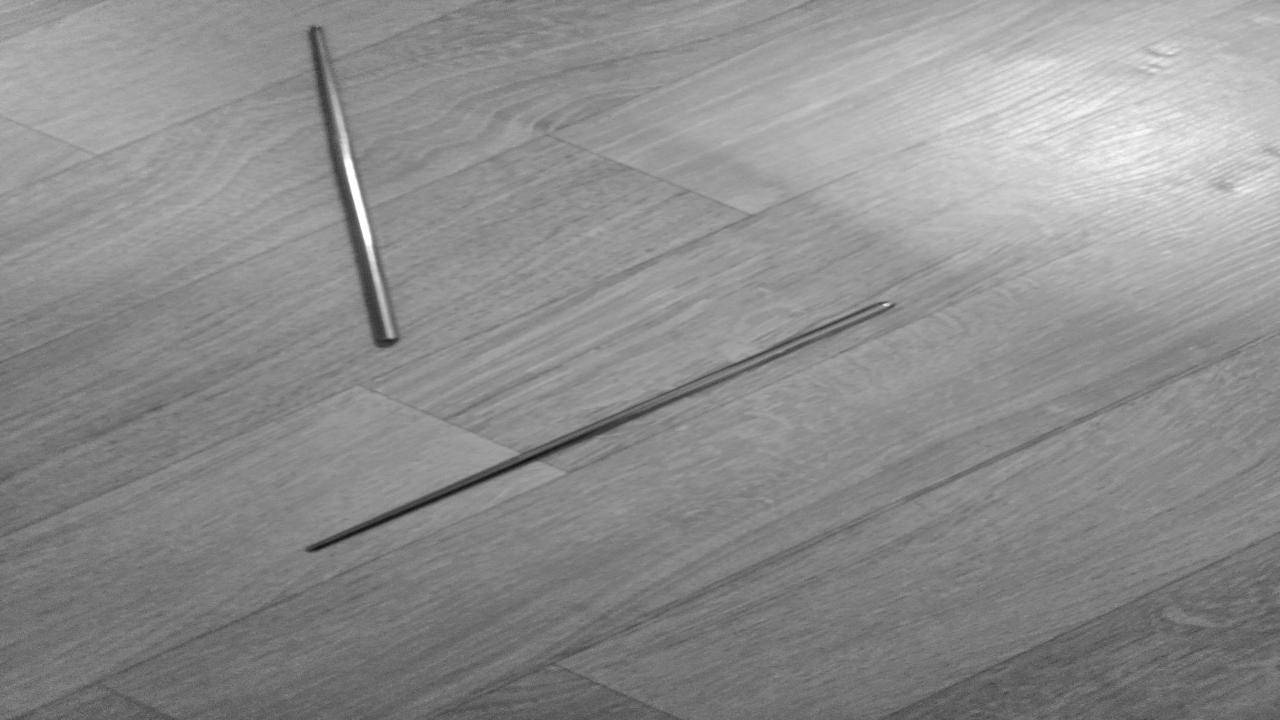chopstick: (301, 297, 900, 558), (288, 21, 407, 346)
